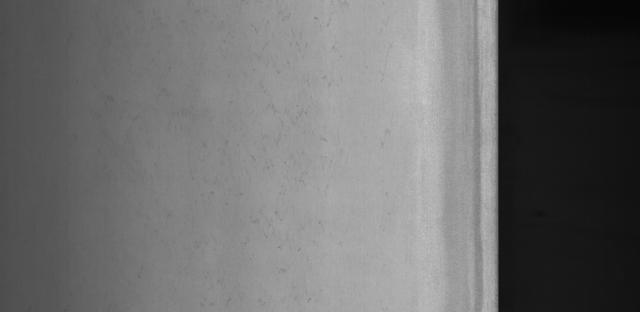silk_spot: (200, 84, 332, 294)
